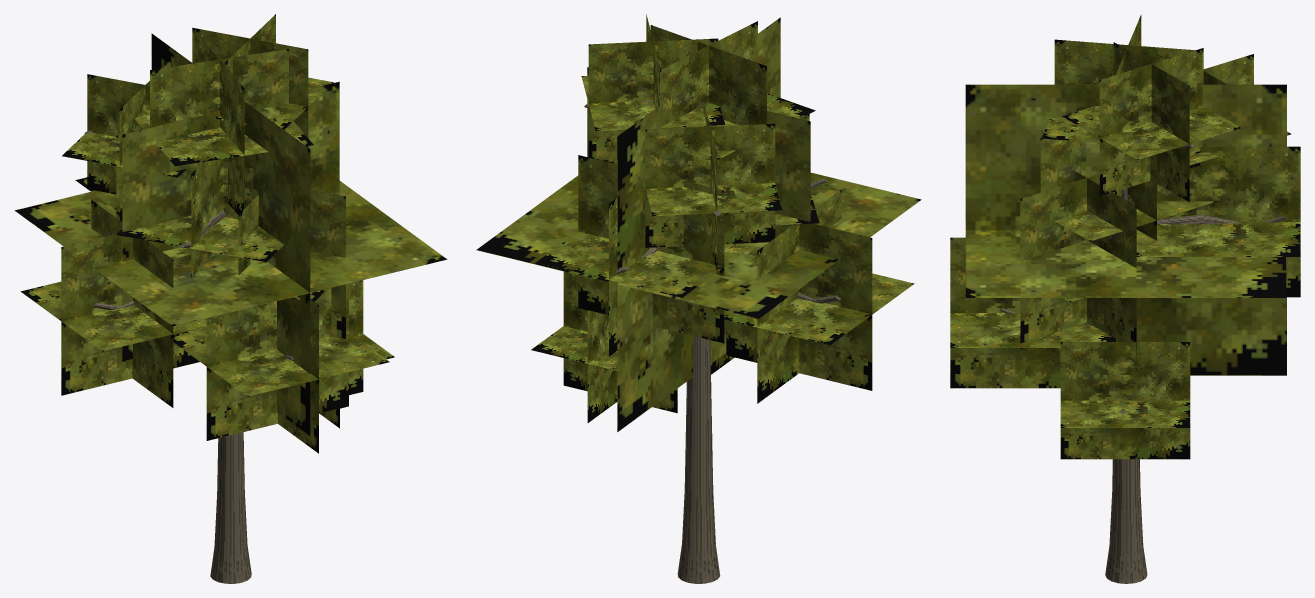
Rendered from Tree.fbx.
3 renders of one model, left to right at view 1: azimuth 30°, elevation 25°; view 2: azimuth 150°, elevation 25°; view 3: azimuth 270°, elevation 25°, orthographic. The views are drawn at different scales.
Parts seen in each view (by area): view 1: Plane.002, Plane.001, Plane, Plane.007, Plane.004, Plane.028, Plane.009, Cylinder, Plane.005, Plane.006, Plane.021, Plane.025 (+14 smaller); view 2: Plane.002, Plane.003, Plane.026, Plane.004, Plane.013, Cylinder, Plane.023, Plane.015, Plane.005, Plane.006, Plane.028, Plane.029 (+10 smaller); view 3: Plane.002, Plane.001, Plane.003, Plane.011, Plane.014, Plane.022, Plane.008, Plane.016, Plane.015, Cylinder, Plane.017, Plane.023 (+9 smaller).
Part boxes in pixels (x1,y1,x2,y2): Plane.002: (14, 181, 447, 326); Plane.001: (244, 101, 310, 436); Plane: (122, 81, 339, 361); Plane.007: (206, 283, 348, 440); Plane.004: (61, 233, 199, 395); Plane.028: (150, 49, 288, 127); Plane.009: (173, 327, 389, 396); Cylinder: (84, 131, 293, 583); Plane.005: (91, 200, 173, 407); Plane.006: (20, 281, 206, 351); Plane.021: (116, 215, 283, 262); Plane.025: (87, 74, 149, 194); Plane.002: (476, 172, 921, 318); Plane.003: (617, 103, 693, 431); Plane.026: (645, 123, 775, 247); Plane.004: (726, 223, 872, 390); Plane.013: (578, 155, 724, 343); Cylinder: (584, 100, 840, 583); Plane.023: (588, 38, 718, 161); Plane.015: (536, 231, 756, 297); Plane.005: (757, 189, 841, 403); Plane.006: (724, 273, 914, 345); Plane.028: (650, 25, 766, 125); Plane.029: (660, 21, 757, 128); Plane.002: (965, 230, 1286, 297); Plane.001: (1136, 84, 1286, 375); Plane.003: (965, 84, 1099, 230); Plane.011: (1060, 342, 1190, 459); Plane.014: (1157, 146, 1300, 297); Plane.022: (1099, 48, 1203, 196); Plane.008: (950, 237, 1060, 388); Plane.016: (1020, 174, 1114, 349); Plane.015: (1136, 222, 1300, 256); Cylinder: (999, 123, 1287, 583); Plane.017: (1073, 170, 1136, 356); Plane.023: (1113, 42, 1189, 202).
Size of the model in its own units: 2121 by 3438 by 2073.
